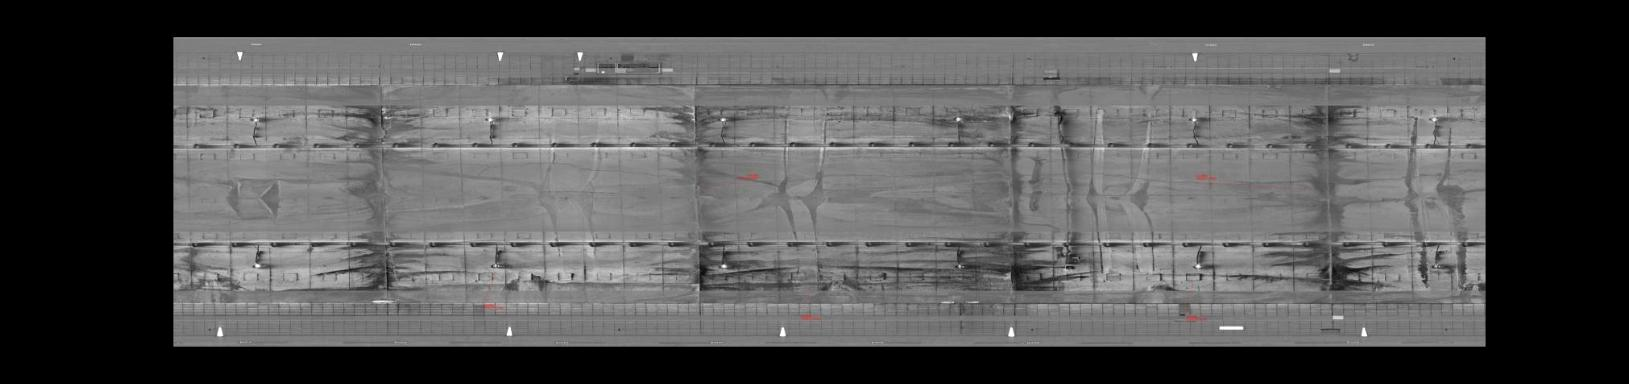light: (1183, 114, 1204, 125), (248, 260, 265, 273), (245, 113, 264, 124), (713, 114, 733, 124), (487, 260, 505, 271), (1425, 113, 1442, 124), (483, 114, 501, 124), (715, 260, 730, 271), (949, 262, 967, 270), (1190, 260, 1206, 270), (949, 115, 966, 124), (1428, 260, 1444, 270)
